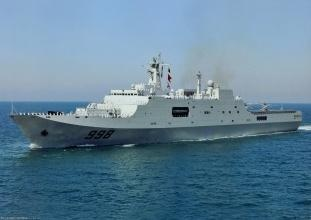warship: (8, 55, 305, 147)
